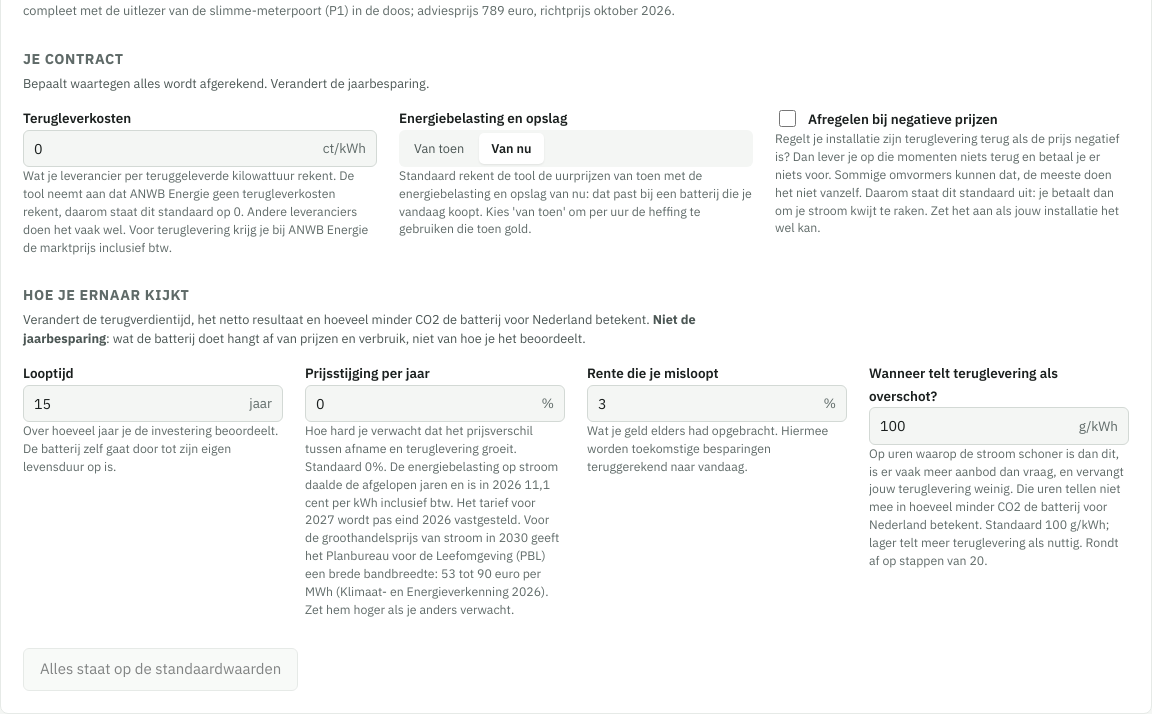
Test case: de getalvelden › laten je 12 jaar looptijd intikken, en klemmen pas bij het verlaten
(page scrolled)
Replace the text in the field with id "inst-looptijd" with "1" at (138, 404), box [34,386,241,421]
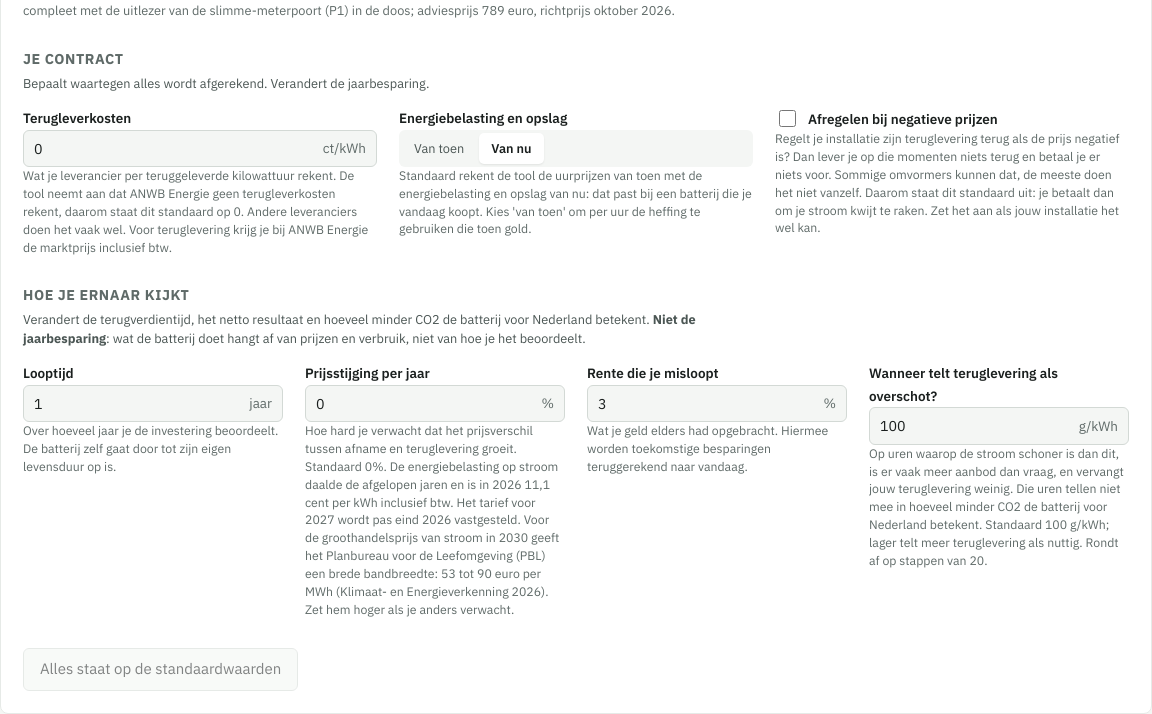
Replace the text in the field with id "inst-looptijd" with "12" at (138, 404), box [34,386,241,421]
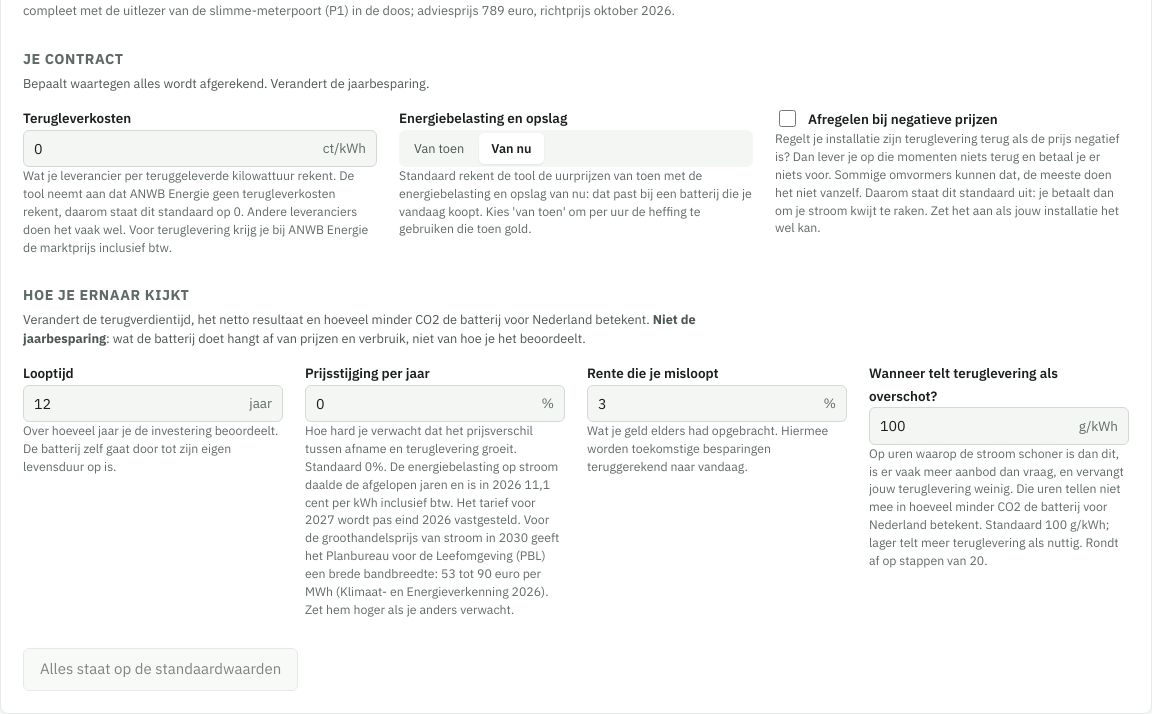
Press Enter in the field with id "inst-looptijd", box [34,386,241,421]
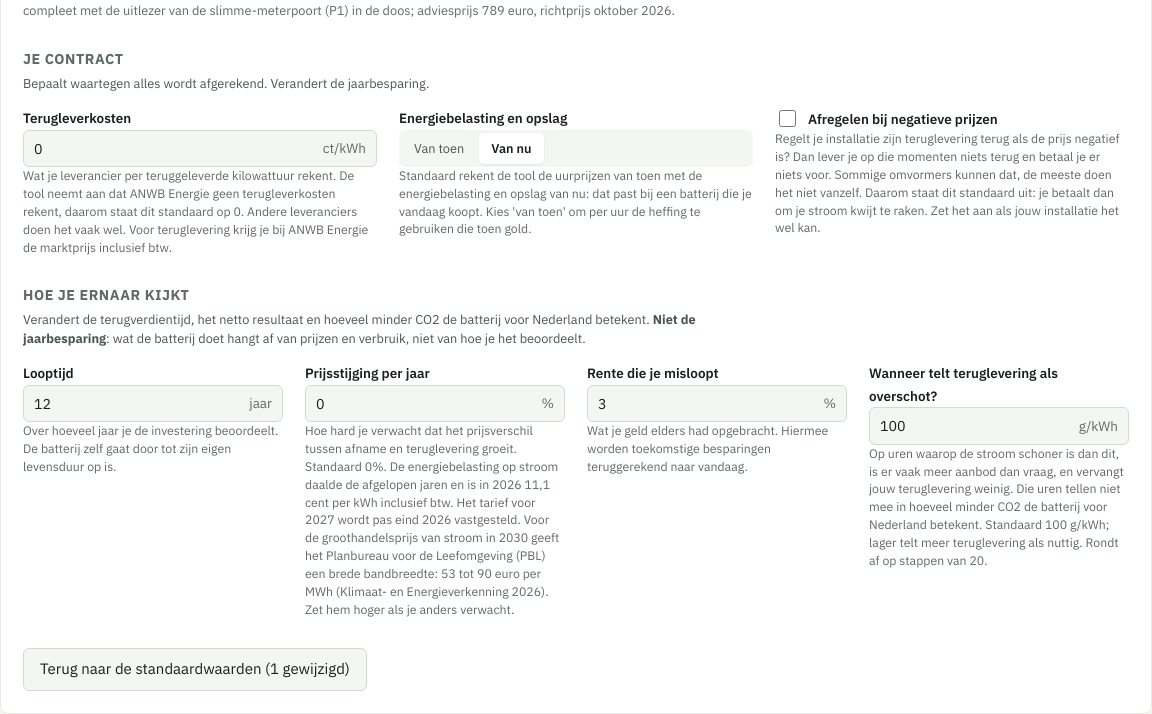
Replace the text in the field with id "inst-looptijd" with "9" at (138, 404), box [34,386,241,421]
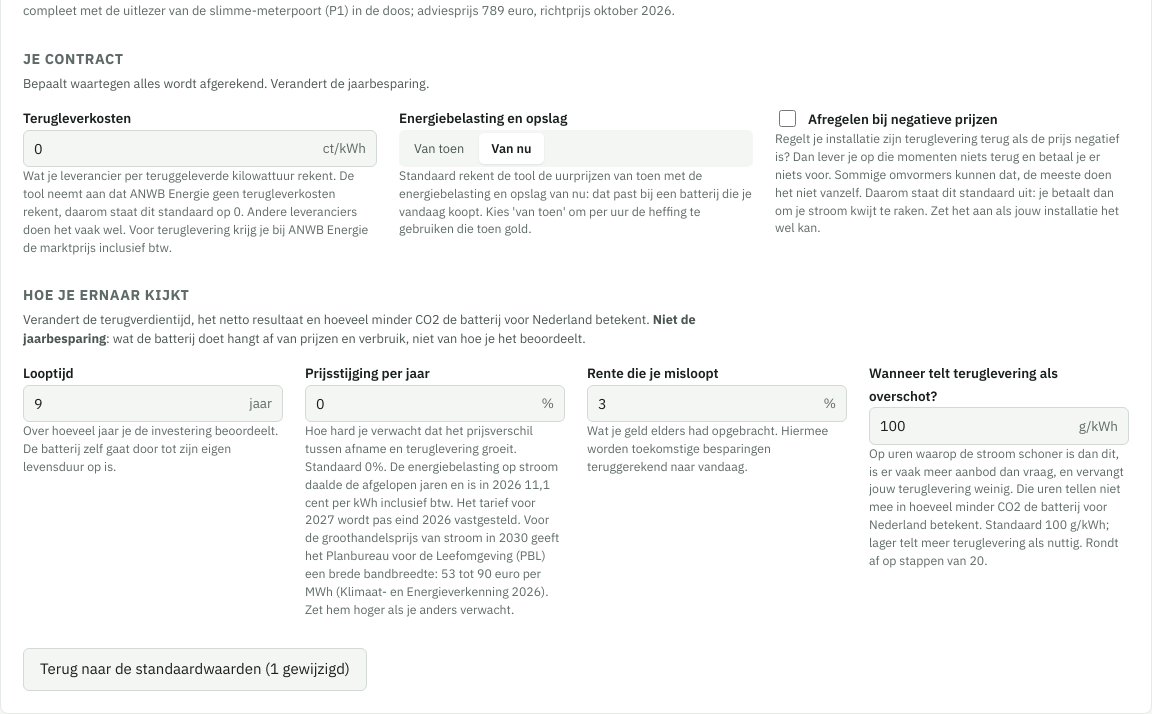
Replace the text in the field with id "inst-looptijd" with "99" at (138, 404), box [34,386,241,421]
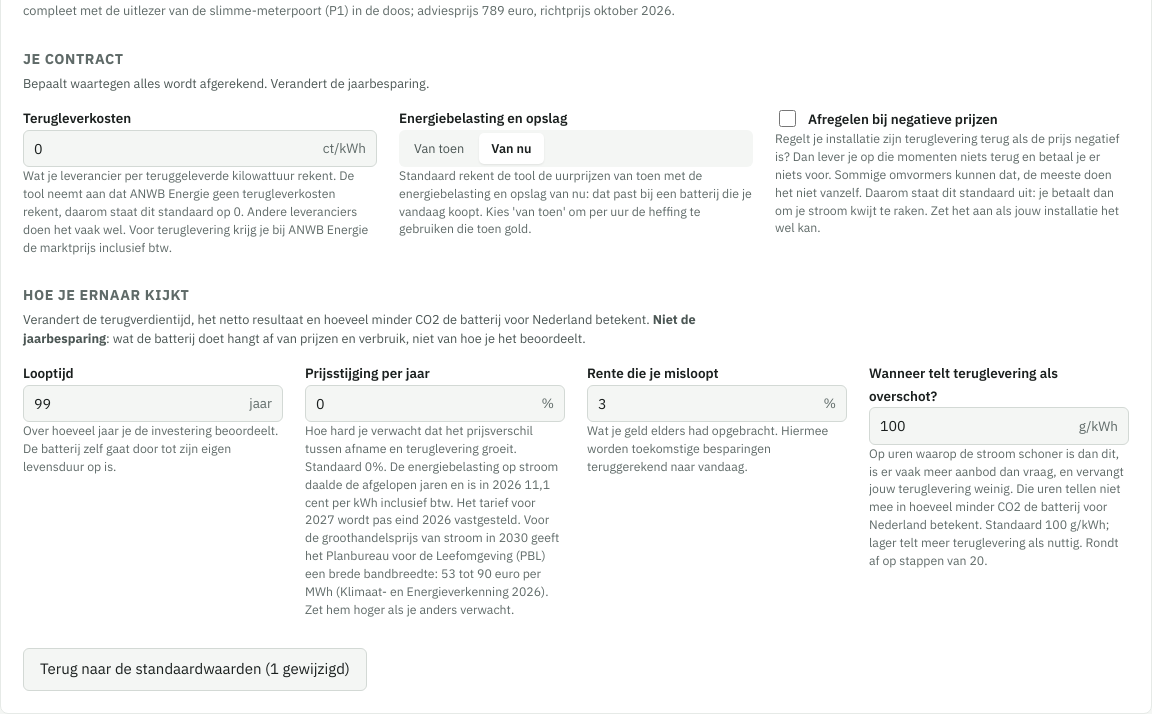
Leave the field with id "inst-looptijd", box [34,386,241,421]
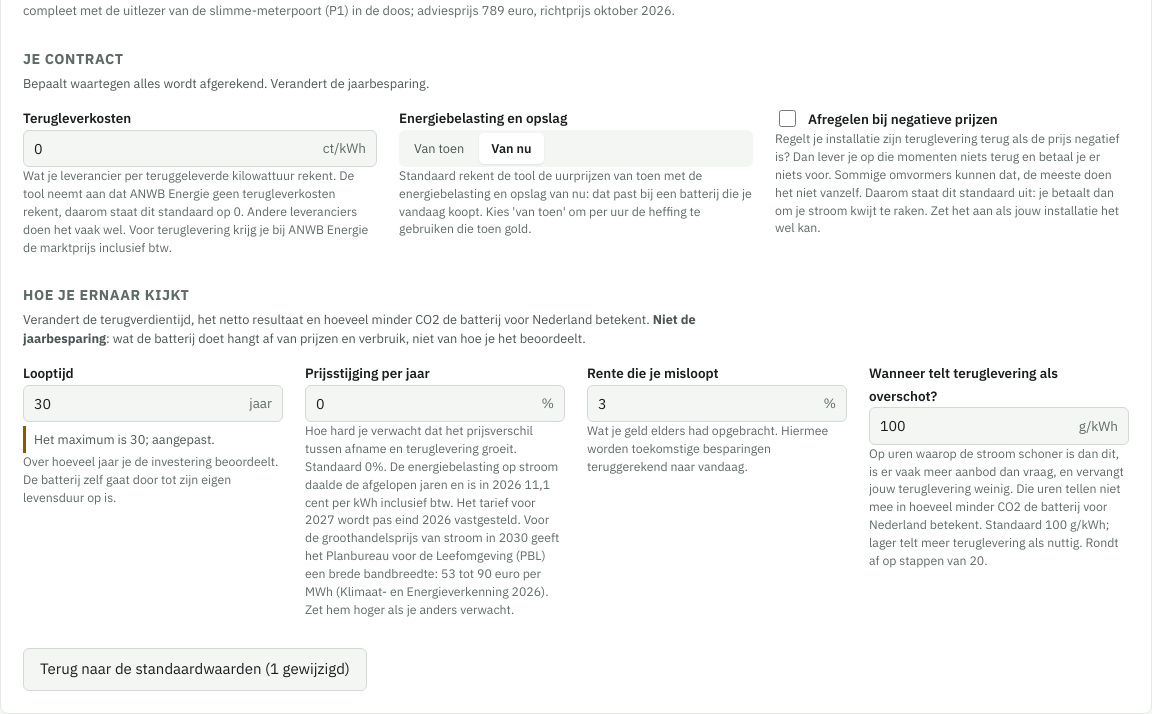
Check: the field with id "inst-looptijd" holds "30", box [34,386,241,421]
